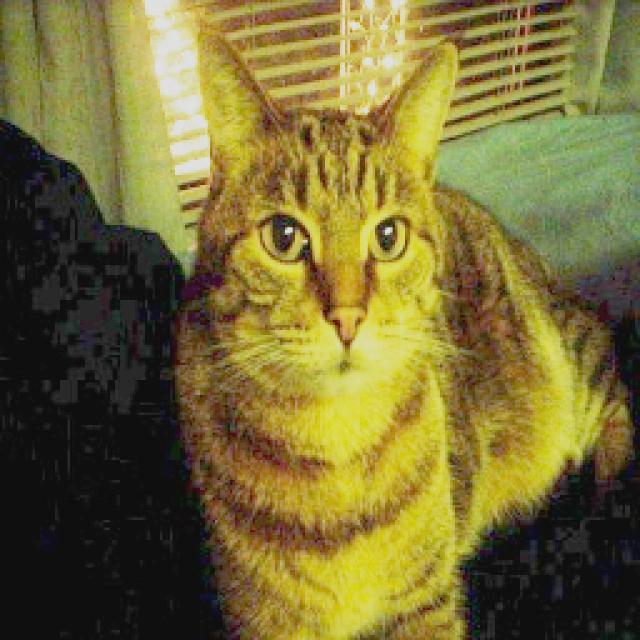cat: (174, 28, 640, 640)
